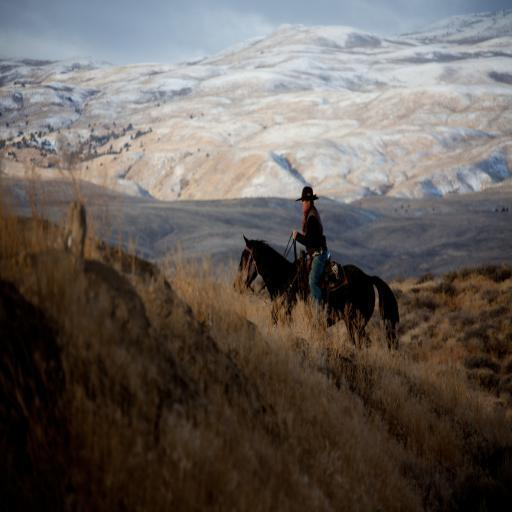horse: (232, 234, 403, 350)
